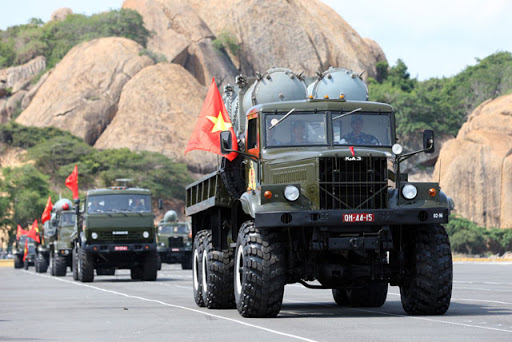plate: (340, 209, 376, 225), (114, 244, 131, 251)
